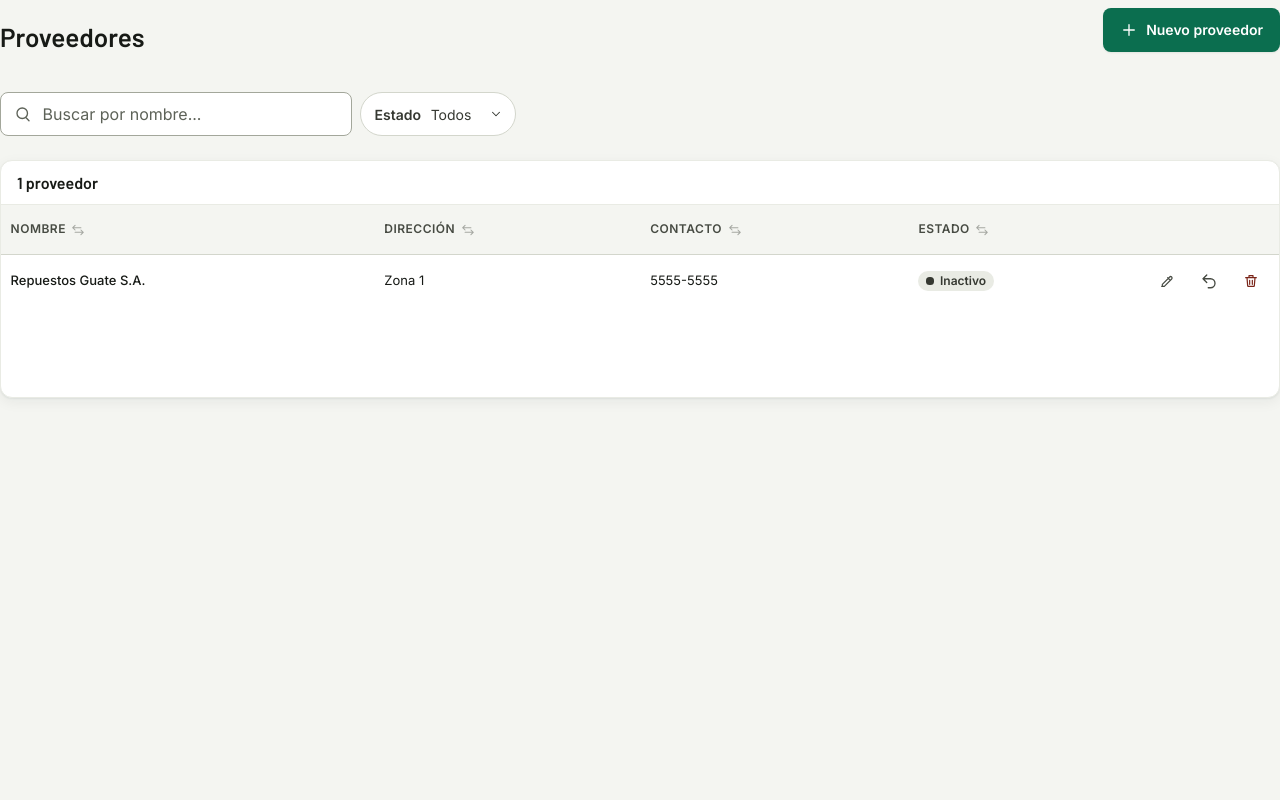
Test: ProveedoresPage › elimina de verdad un proveedor inactivo sin historial asociado
Click the button named "eliminar" at (1251, 281), box [1233,259,1269,303]
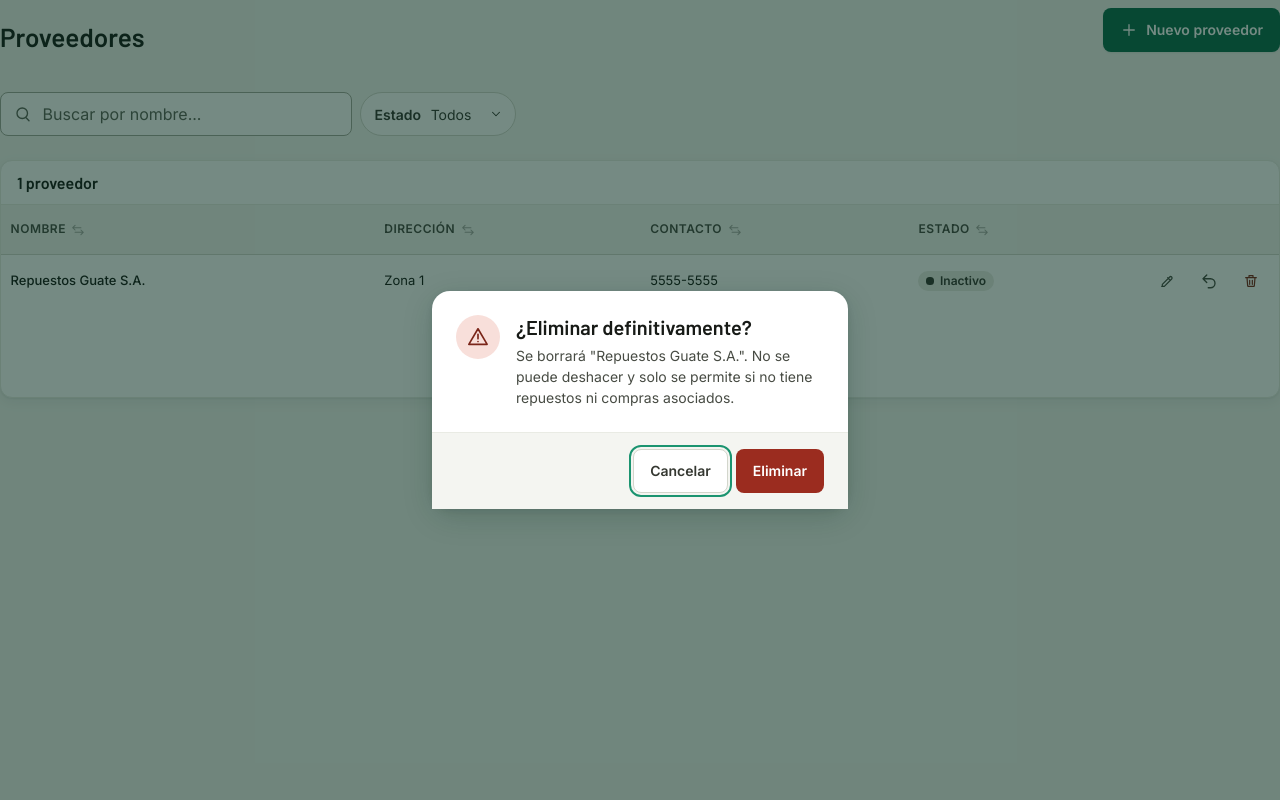
Click the button "Eliminar" at (780, 471), box [736,449,824,493]
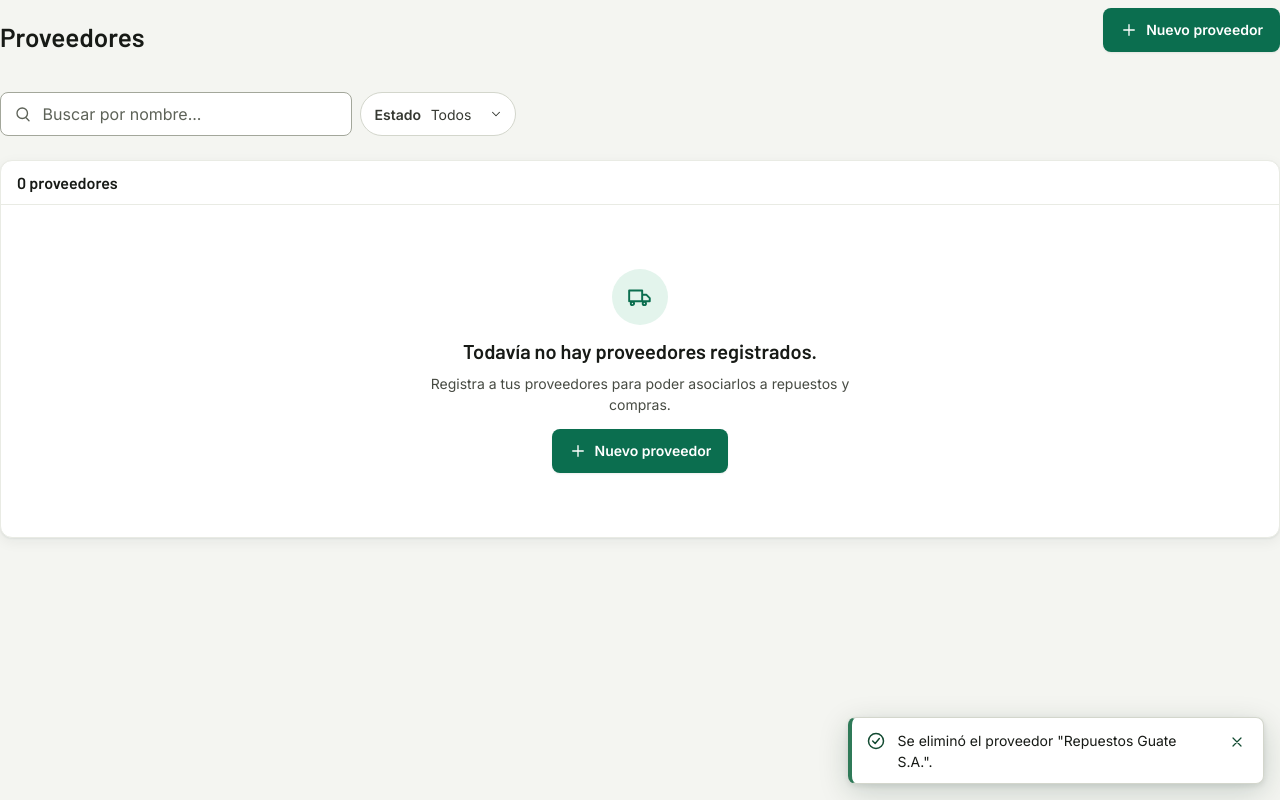
expect the text "Se eliminó el proveedor \"Repuestos Guate S.A.\"." is shown: met, box [898,729,1208,772]
